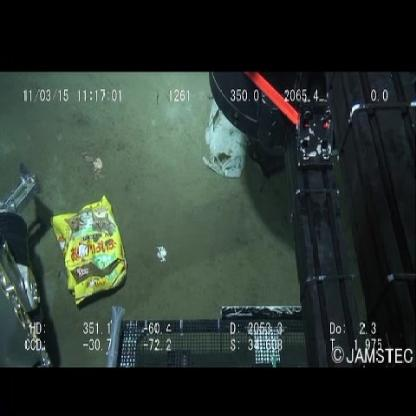Rov: (206, 72, 416, 302), (104, 302, 416, 366), (1, 160, 55, 367)
Rác: (46, 193, 132, 310), (198, 98, 250, 183)
